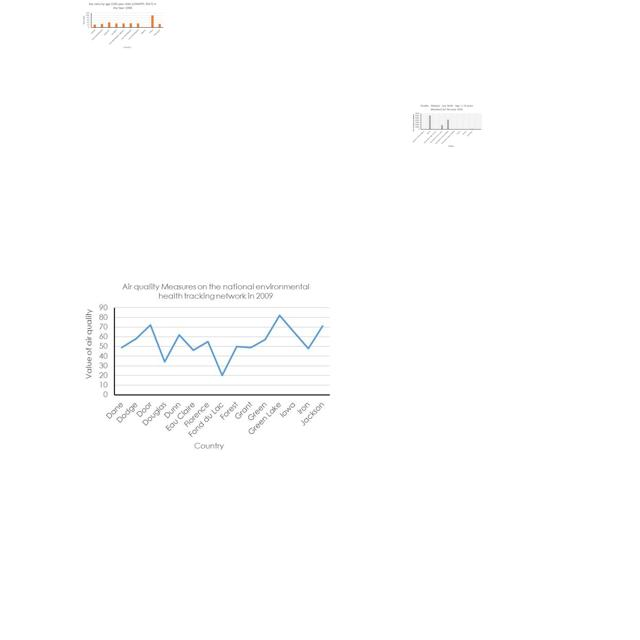Graph: (82, 277, 334, 456), (80, 1, 164, 50), (411, 103, 482, 148)
